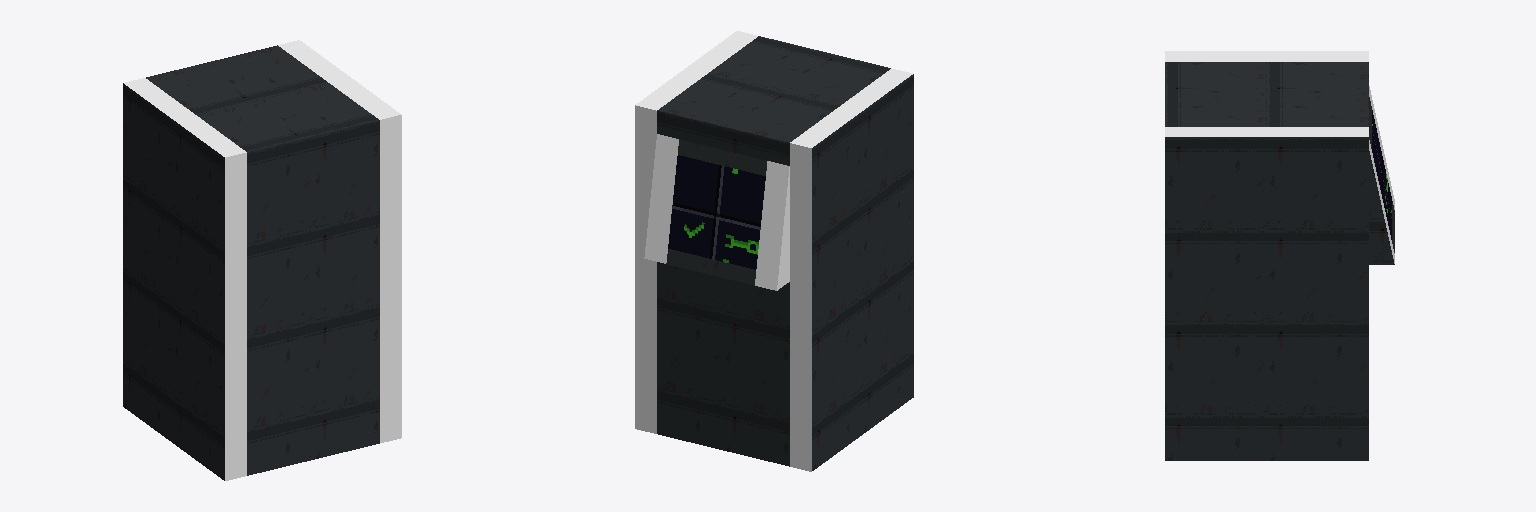
The picture shows the model from 3 angles: view 1: azimuth 30°, elevation 25°; view 2: azimuth 150°, elevation 25°; view 3: azimuth 270°, elevation 25°; orthographic projection.
Parts seen in each view (by area): view 1: Craft Bench2; view 2: Craft Bench2; view 3: Craft Bench2.
Part boxes in pixels (left/top/right/bottom): Craft Bench2: left=123, top=40, right=401, bottom=480; Craft Bench2: left=635, top=31, right=913, bottom=471; Craft Bench2: left=1165, top=51, right=1394, bottom=460.
Bounding box in the file's own units: 2 × 3.5 × 2.25.
Materials: 4 (2 with a texture image).